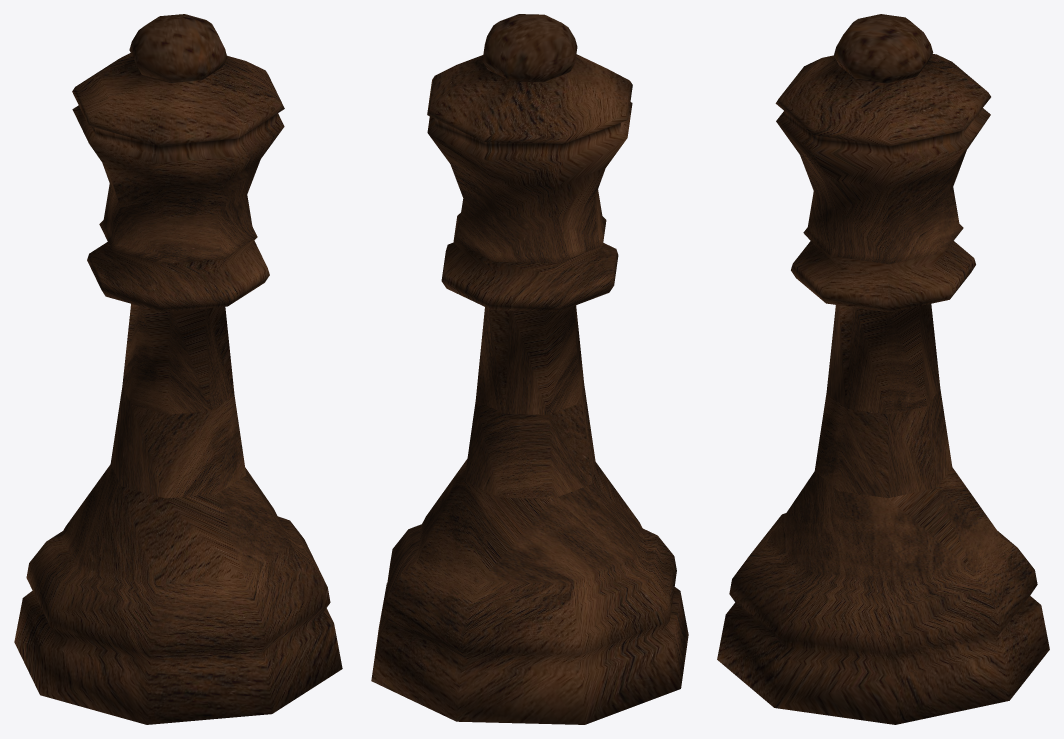
The picture shows the model from 3 angles, left to right: view 1: azimuth 30°, elevation 25°; view 2: azimuth 150°, elevation 25°; view 3: azimuth 270°, elevation 25°; orthographic projection.
Parts seen in each view (by area): view 1: BlackQueen; view 2: BlackQueen; view 3: BlackQueen.
Part boxes in pixels (bbox=[...]): BlackQueen: bbox=[14, 14, 342, 724]; BlackQueen: bbox=[371, 14, 688, 724]; BlackQueen: bbox=[717, 14, 1049, 724].
Size of the model in its own units: 0.0296 by 0.0621 by 0.0296.
1 material, 1 textured.
